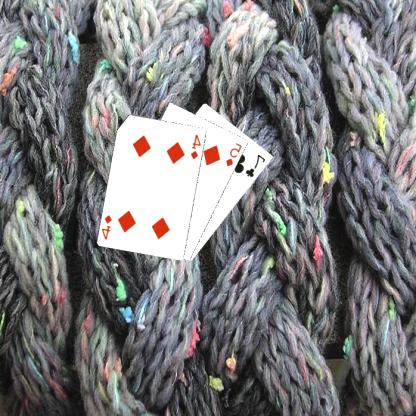4D: (101, 211, 115, 240), (190, 132, 204, 160)
5D: (225, 140, 245, 168)
7C: (245, 151, 269, 179)
